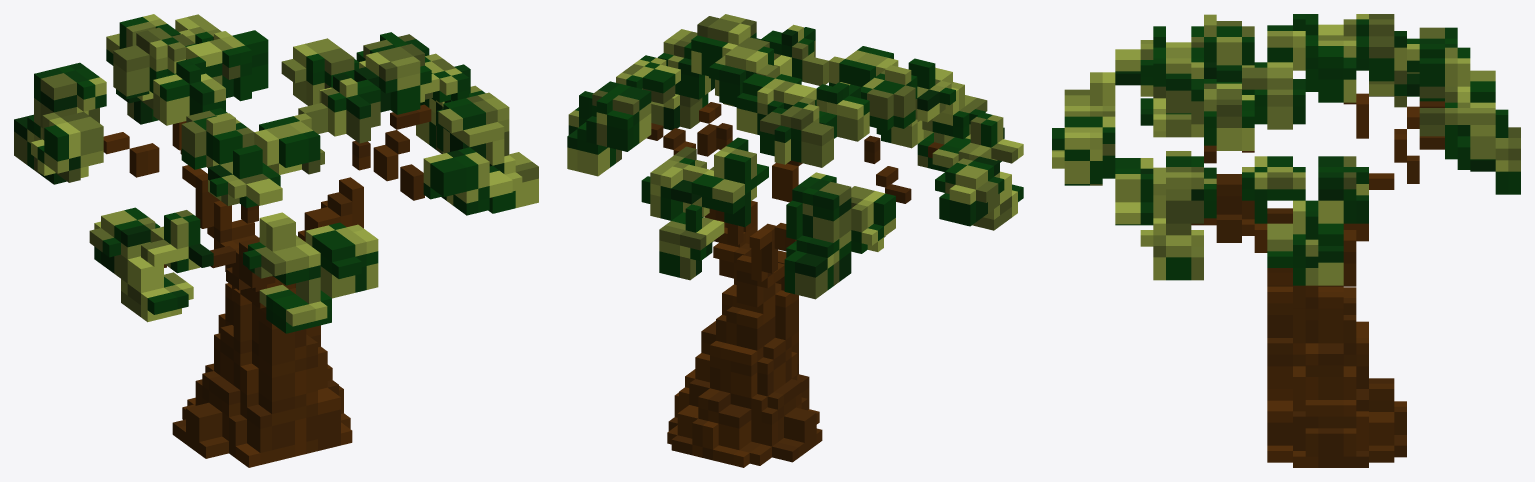
The model's file is Shrub3-1-1.obj.
The picture shows the model from 3 angles, left to right: view 1: azimuth 30°, elevation 25°; view 2: azimuth 150°, elevation 25°; view 3: azimuth 270°, elevation 25°; orthographic projection. The views are drawn at different scales.
Parts seen in each view (by area): view 1: 1; view 2: 1; view 3: 1.
Part boxes in pixels (bbox=[...]): 1: bbox=[14, 14, 538, 467]; 1: bbox=[567, 14, 1023, 467]; 1: bbox=[1052, 14, 1520, 467].
Bounding box in the file's own units: 3.7 × 3.3 × 3.7.
1 material, 1 textured.
